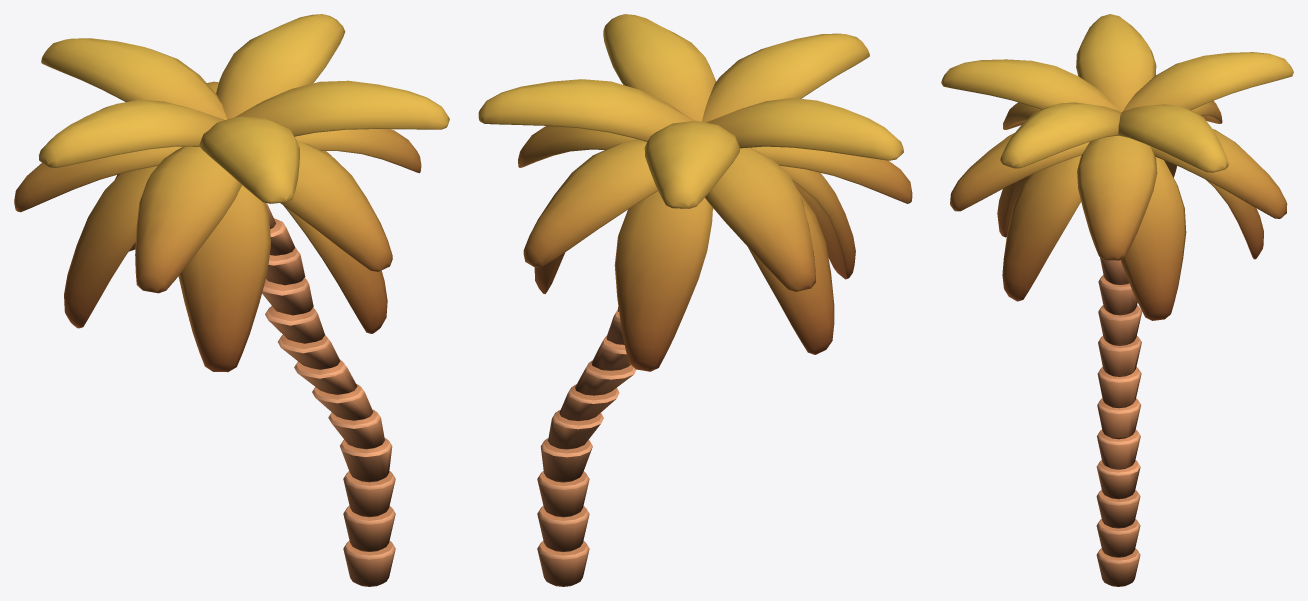
File: lpb_tree_1_c.fbx
The picture shows the model from 3 angles, left to right: view 1: azimuth 30°, elevation 25°; view 2: azimuth 150°, elevation 25°; view 3: azimuth 270°, elevation 25°; orthographic projection. The views are drawn at different scales.
Parts seen in each view (by area): view 1: ap_tree_1.002; view 2: ap_tree_1.002; view 3: ap_tree_1.002.
Part boxes in pixels (left/top/right/bottom): ap_tree_1.002: left=14, top=14, right=449, bottom=586; ap_tree_1.002: left=478, top=14, right=912, bottom=586; ap_tree_1.002: left=941, top=14, right=1293, bottom=586.
Bounding box in the file's own units: 404 × 545 × 390.
